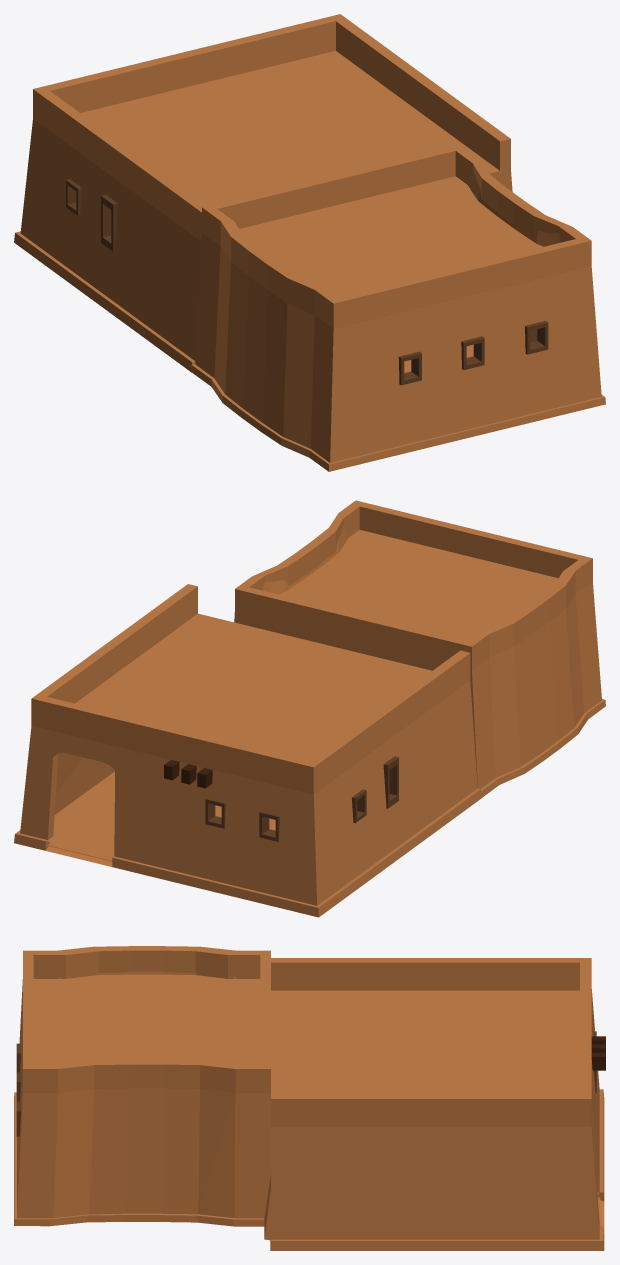
File: Egyptian house 1.fbx
3 renders of one model, top to bottom at view 1: azimuth 30°, elevation 25°; view 2: azimuth 150°, elevation 25°; view 3: azimuth 270°, elevation 25°, orthographic. The views are drawn at different scales.
Visible parts, largest first — view 1: Egyptian house Var1; view 2: Egyptian house Var1; view 3: Egyptian house Var1.
Boxes of the visible parts, x1,y1,x2,y2 form: Egyptian house Var1: [14, 14, 605, 471]; Egyptian house Var1: [14, 500, 605, 917]; Egyptian house Var1: [14, 946, 605, 1250].
Size of the model in its own units: 770 by 351 by 1230.
